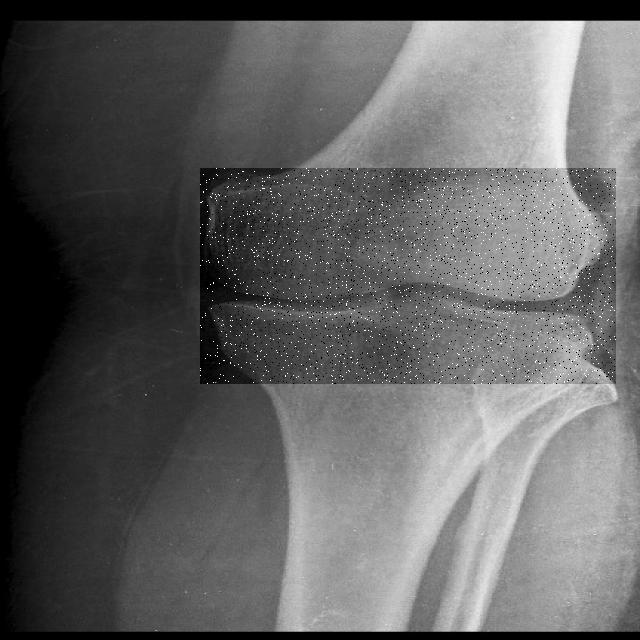osteo: (200, 168, 616, 384)
